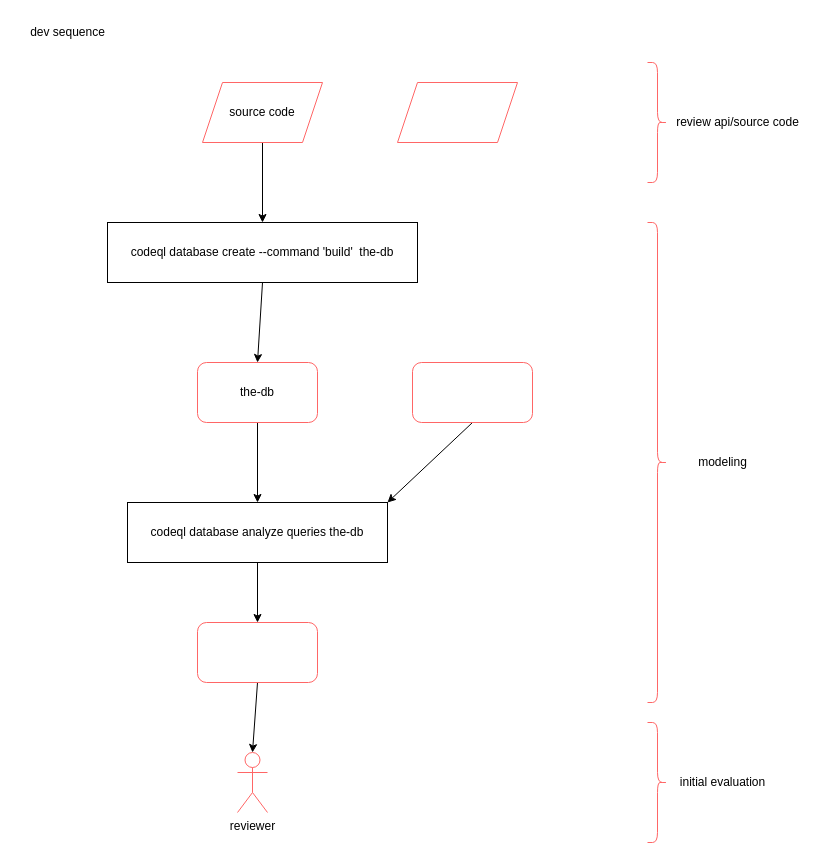
This 829x860 diagram has some shape labels left out. The box of each missing label's shape, as (x1, y1, x2, y2) in pixels:
docs: (396, 82, 518, 142)
queries: (412, 362, 532, 422)
the-sarif: (196, 622, 318, 682)
